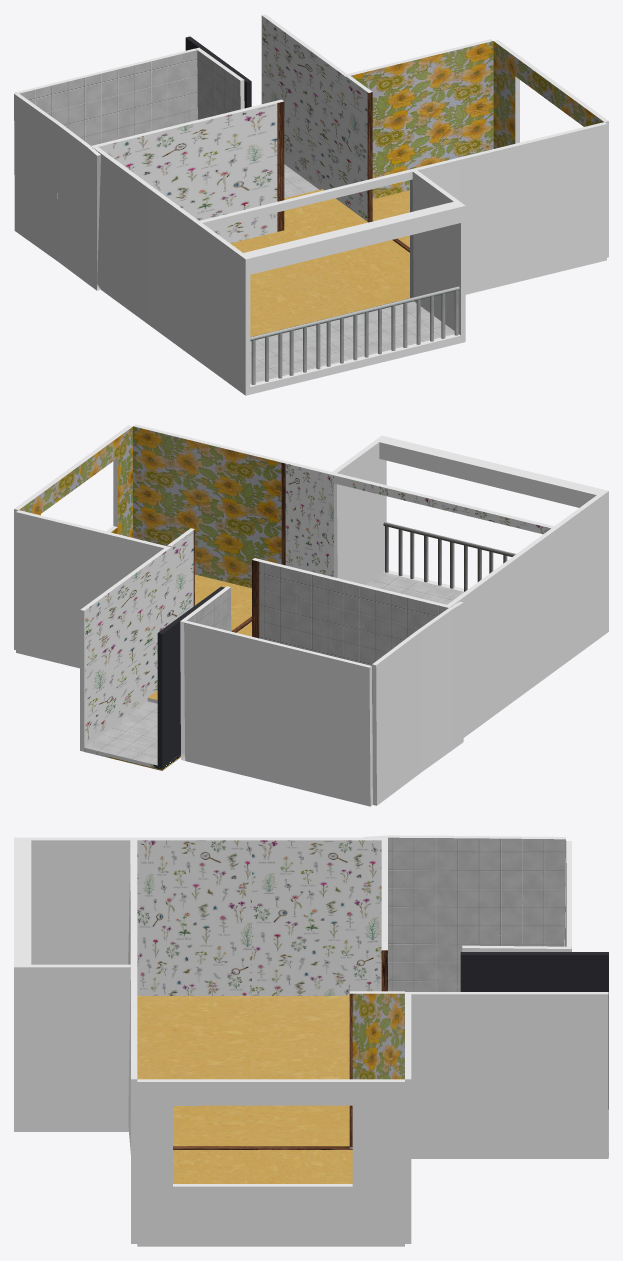
The model's file is Room 1.fbx.
3 renders of one model, top to bottom at view 1: azimuth 30°, elevation 25°; view 2: azimuth 150°, elevation 25°; view 3: azimuth 270°, elevation 25°, orthographic. The views are drawn at different scales.
Visible parts, largest first — view 1: polySurface68; view 2: polySurface68; view 3: polySurface68.
Part boxes in pixels (x1,y1,x2,y2): polySurface68: (14,14,608,395); polySurface68: (14,424,608,806); polySurface68: (14,835,608,1246).
Bounding box in the file's own units: 113 × 35.69 × 115.
Materials: 4 (3 with a texture image).
